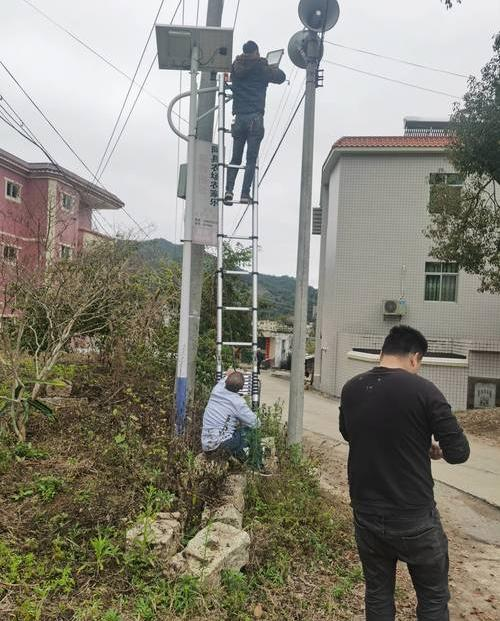安全帽、安全绳，工作服均未佩戴的工作人员: (221, 39, 287, 206)
安全帽、工作服均未穿戴的工作人员: (338, 325, 471, 621)
未带安全帽的工作人员: (199, 366, 262, 463)
